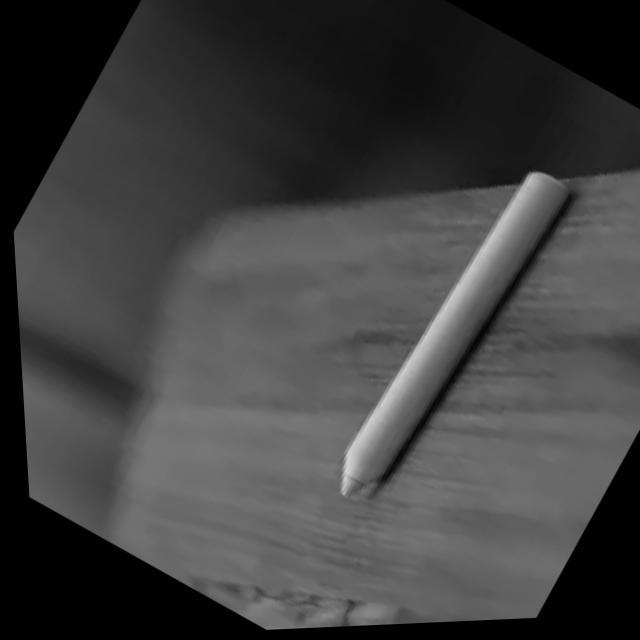pencil: (330, 167, 579, 526)
